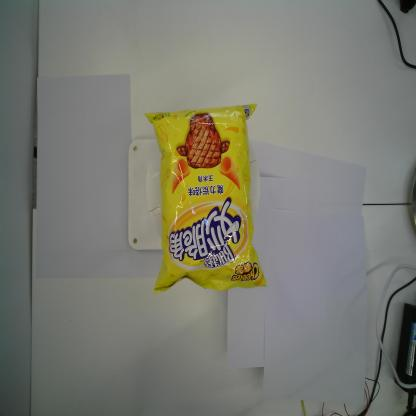Puffed Food: (144, 103, 267, 293)
